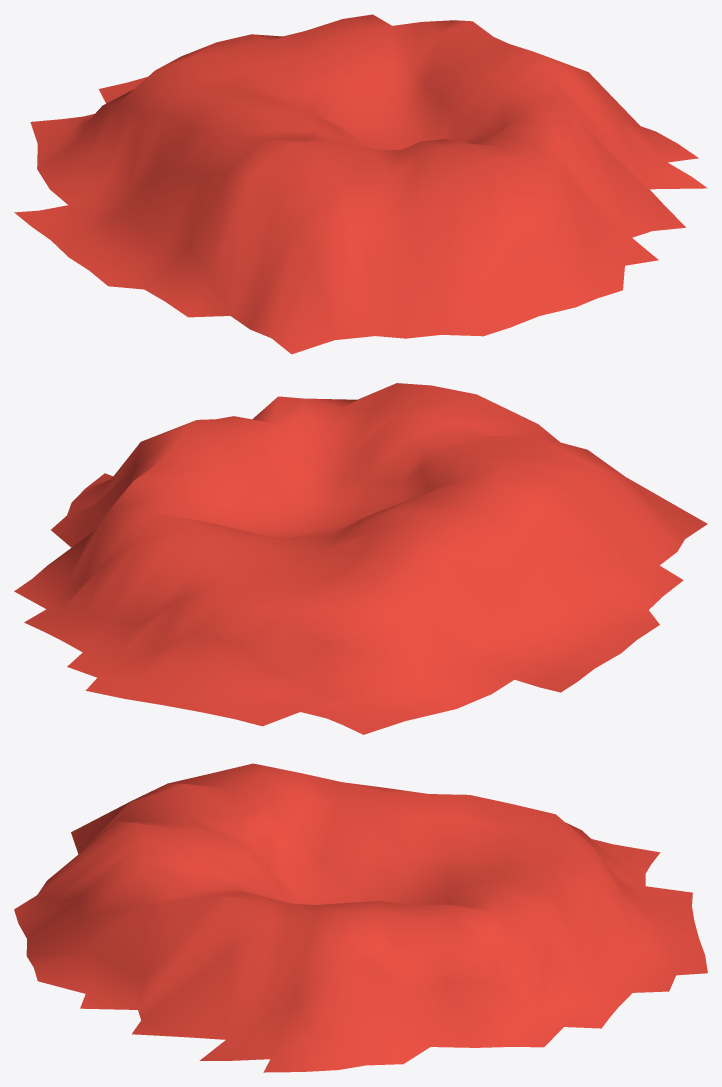
File: dirtclump.fbx
3 renders of one model, top to bottom at view 1: azimuth 30°, elevation 25°; view 2: azimuth 150°, elevation 25°; view 3: azimuth 270°, elevation 25°, orthographic. The views are drawn at different scales.
Parts seen in each view (by area): view 1: Dirt; view 2: Dirt; view 3: Dirt.
Boxes of the visible parts, x1,y1,x2,y2 form: Dirt: (14,14,707,354); Dirt: (14,383,707,734); Dirt: (14,763,707,1072).
Size of the model in its own units: 429 by 79.49 by 462.
